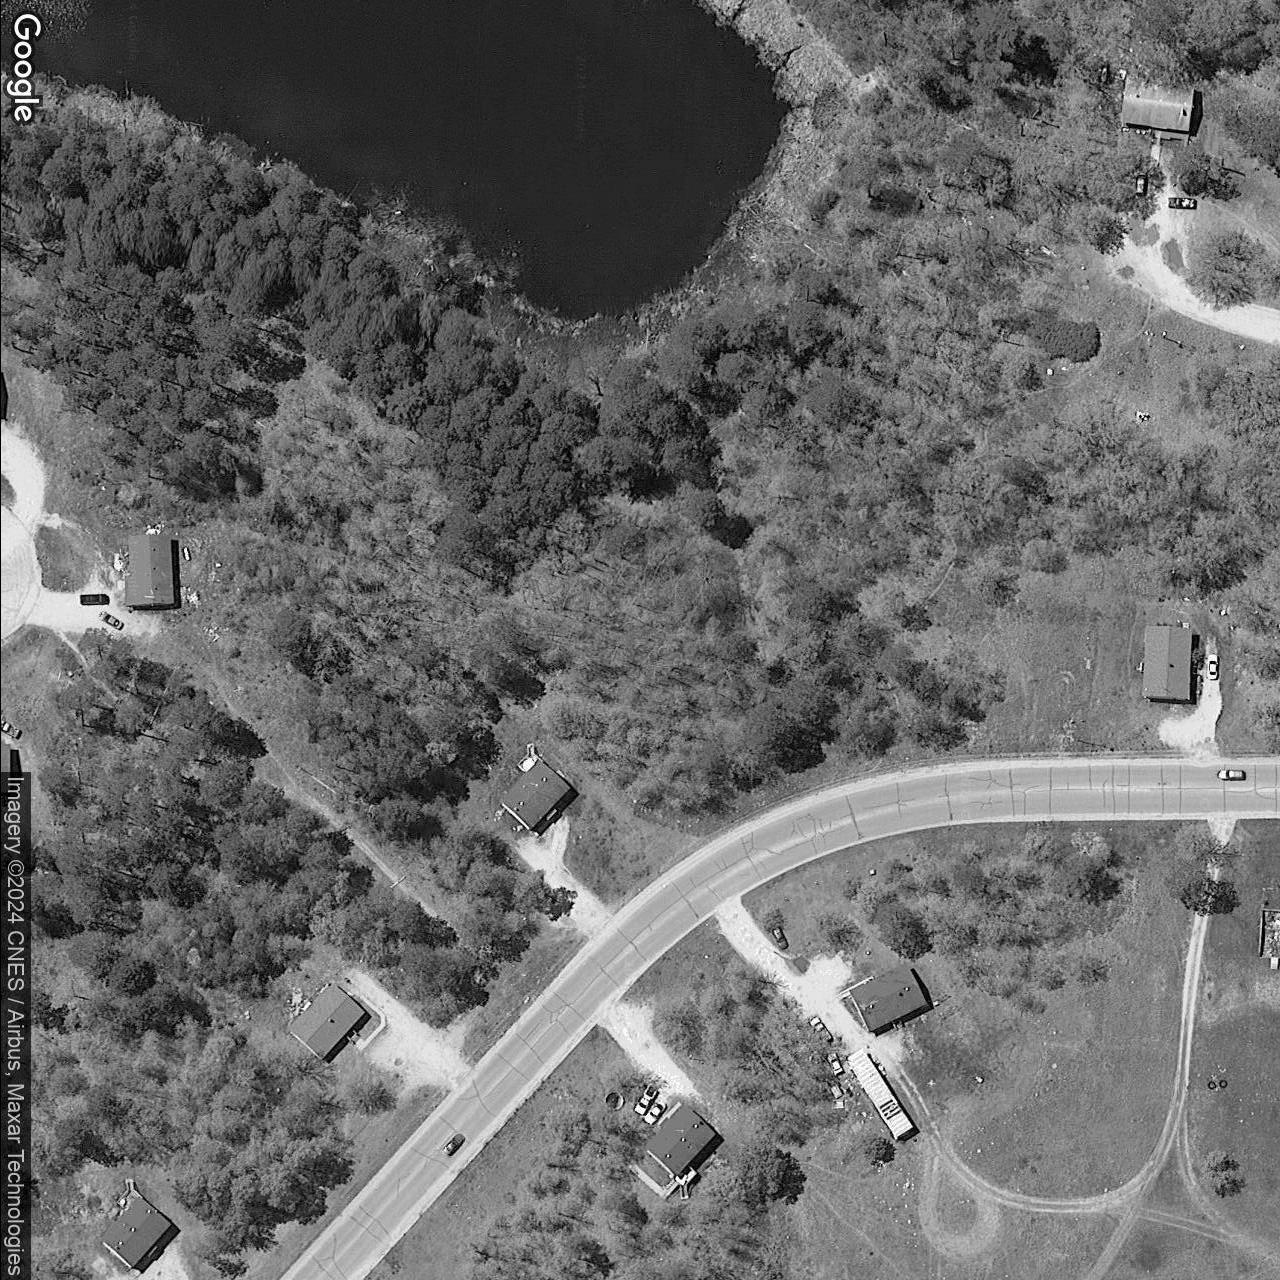House: (287, 982, 365, 1062), (641, 1103, 716, 1179), (498, 755, 571, 833), (846, 964, 928, 1033), (101, 1194, 172, 1271), (1118, 72, 1193, 134), (1141, 624, 1192, 703), (123, 533, 175, 608), (1255, 906, 1280, 960), (0, 743, 12, 772)
Propane: (179, 545, 193, 563)
Trailer: (845, 1048, 914, 1139)
